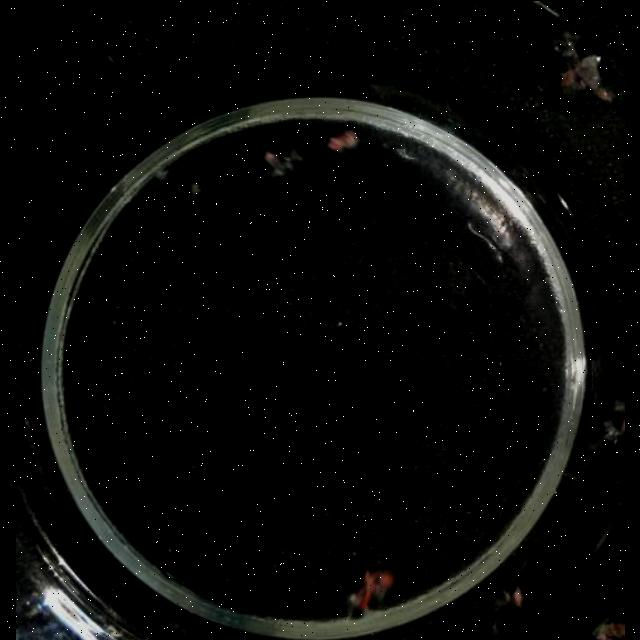Fragment: (555, 29, 613, 95), (348, 568, 394, 616), (593, 398, 625, 452), (487, 584, 531, 616), (264, 144, 302, 174), (322, 122, 362, 150), (594, 610, 624, 640)
microbeads: (184, 170, 206, 200), (154, 165, 170, 181)
